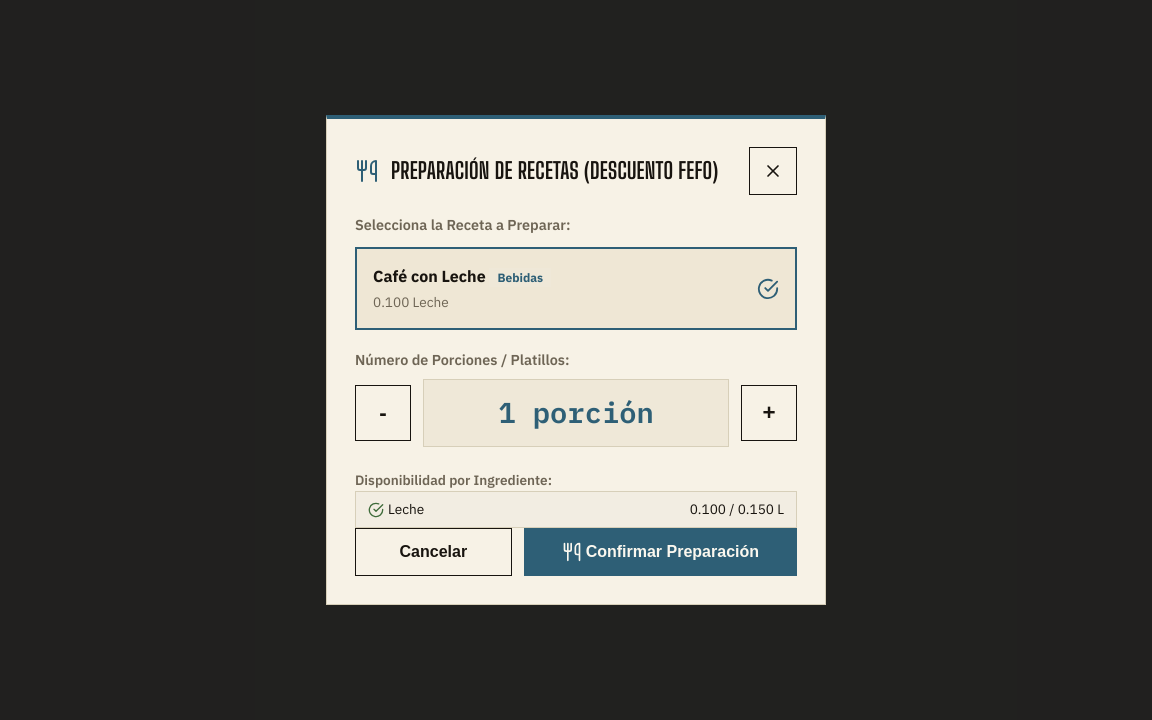
Test case: TK-111-FE: RecipeSelectorModal — vista previa de disponibilidad de ingredientes › cambiar porciones vuelve a consultar disponibilidad y puede pasar de habilitado a deshabilitado
Check: the text "0.100 / 0.150 L" is shown, box [690,500,784,519]
Check: the button "Confirmar Preparación" is enabled, box [524,528,797,576]
What coordinates should you click on to do the following:
click the button "+"
I would click on:
 (769, 413)
Its box is [741,385,797,441].
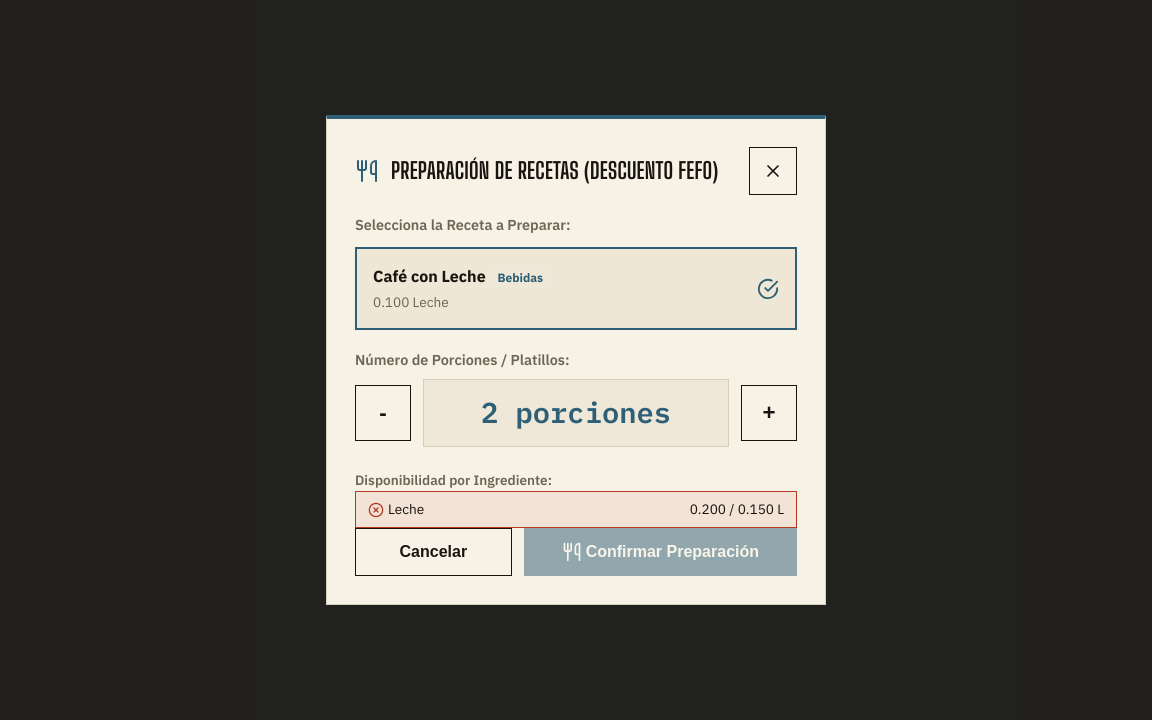
Check: the text "0.200 / 0.150 L" is shown, box [690,500,784,519]
Check: the button "Confirmar Preparación" is disabled, box [524,528,797,576]
